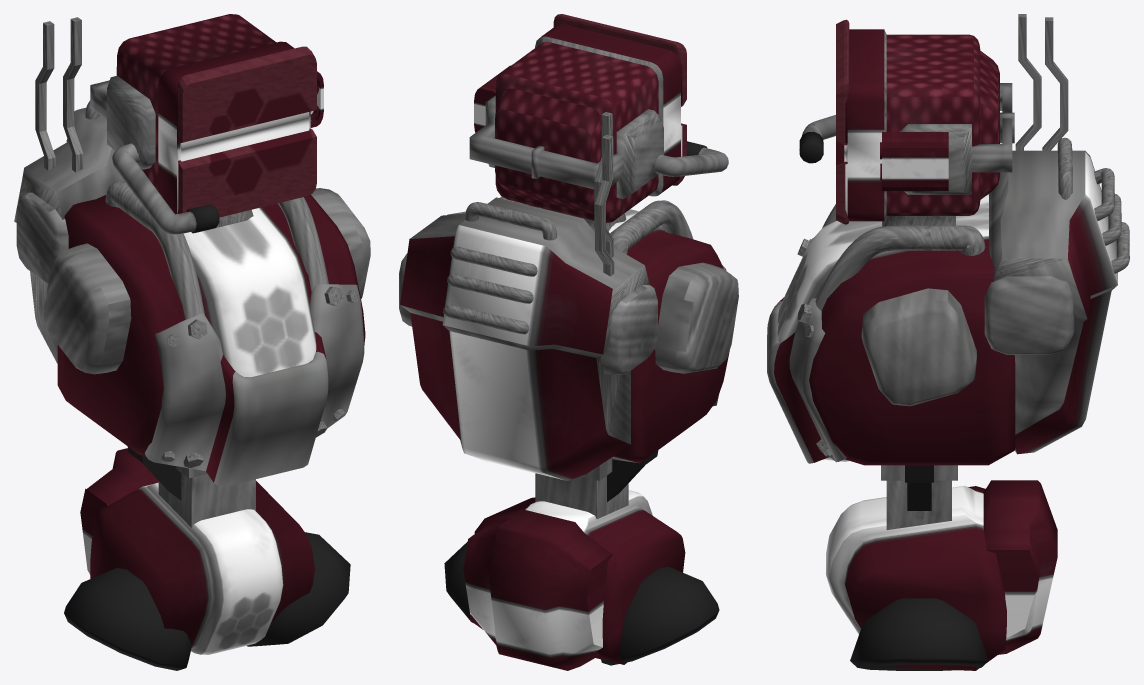
The model's file is Robot 8 head and chasis.fbx.
The picture shows the model from 3 angles, left to right: view 1: azimuth 30°, elevation 25°; view 2: azimuth 150°, elevation 25°; view 3: azimuth 270°, elevation 25°; orthographic projection. The views are drawn at different scales.
Parts seen in each view (by area): view 1: Cube.019, Cube.020, Cube.005, Cube.002; view 2: Cube.019, Cube.020, Cube.005, Cube.002; view 3: Cube.019, Cube.020, Cube.005, Cube.002, Cube.003, Cube.014.
Boxes of the visible parts, <box> form: Cube.019: <box>14,17,370,486</box>; Cube.020: <box>64,448,350,670</box>; Cube.005: <box>90,14,323,234</box>; Cube.002: <box>127,446,255,527</box>; Cube.019: <box>399,112,738,480</box>; Cube.020: <box>444,490,719,670</box>; Cube.005: <box>469,14,728,222</box>; Cube.002: <box>535,450,658,518</box>; Cube.019: <box>767,14,1129,465</box>; Cube.020: <box>826,480,1057,670</box>; Cube.005: <box>799,19,1014,224</box>; Cube.002: <box>886,465,951,529</box>; Cube.003: <box>881,465,957,480</box>; Cube.014: <box>882,216,955,226</box>.
Bounding box in the file's own units: 316 × 669 × 364.
